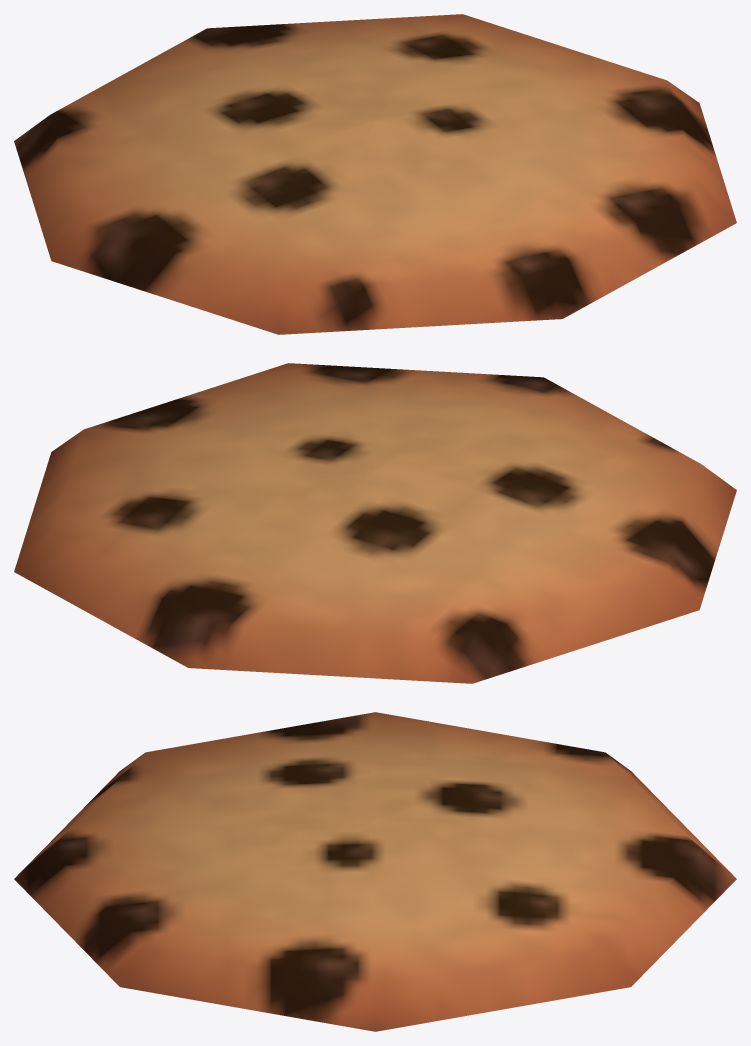
File: Cookie_A.FBX
3 views of the same model, one above another, from view 1: azimuth 30°, elevation 25°; view 2: azimuth 150°, elevation 25°; view 3: azimuth 270°, elevation 25° (orthographic). The views are drawn at different scales.
Visible parts, largest first — view 1: Cookie; view 2: Cookie; view 3: Cookie.
Part boxes in pixels (x1=…): Cookie: x1=14, y1=14, x2=736, y2=334; Cookie: x1=14, y1=363, x2=736, y2=683; Cookie: x1=14, y1=712, x2=736, y2=1031.
Size of the model in its own units: 49.4 by 4.49 by 49.4.
